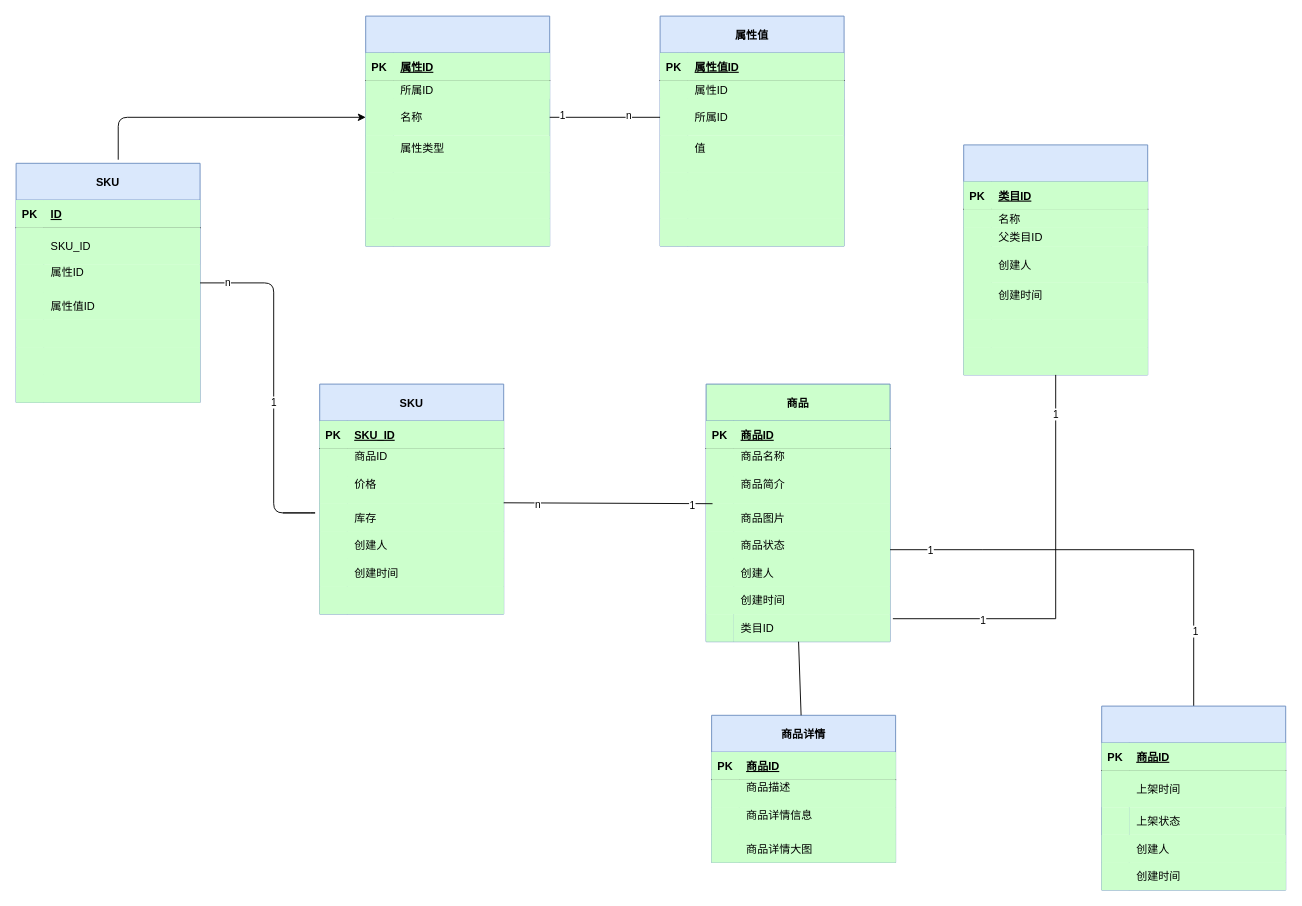
Some shapes in this 1302 by 906 pixel diagram are drawn without their labels. Each missing label, with the box of its shape:
商品上架: (1101, 705, 1286, 890)
属性: (365, 15, 550, 246)
类目: (963, 144, 1148, 375)
